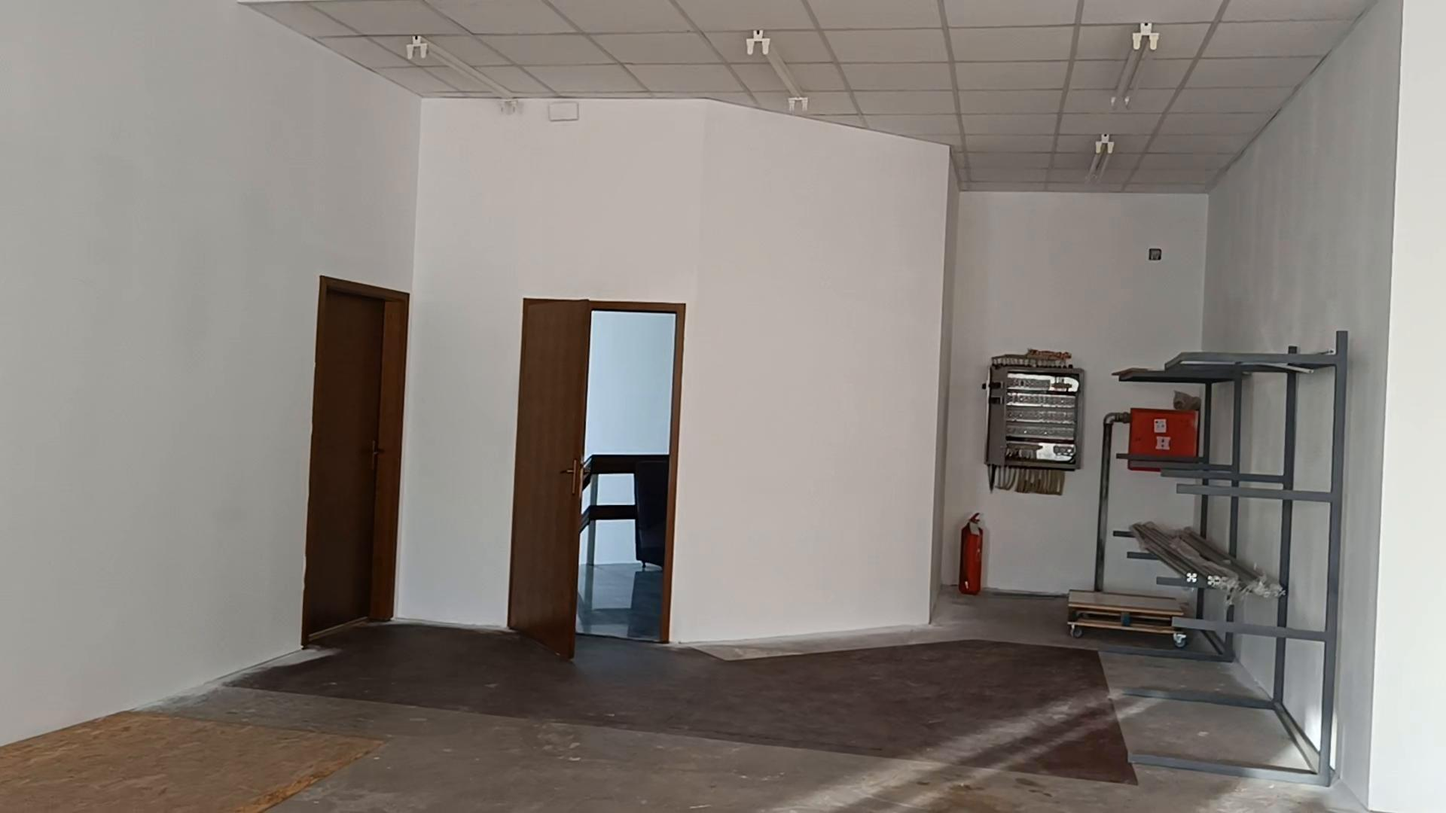ceiling: (251, 0, 1375, 192)
floor: (0, 594, 1357, 812)
wall: (0, 0, 976, 741), (1161, 0, 1445, 812), (946, 193, 1202, 590)
